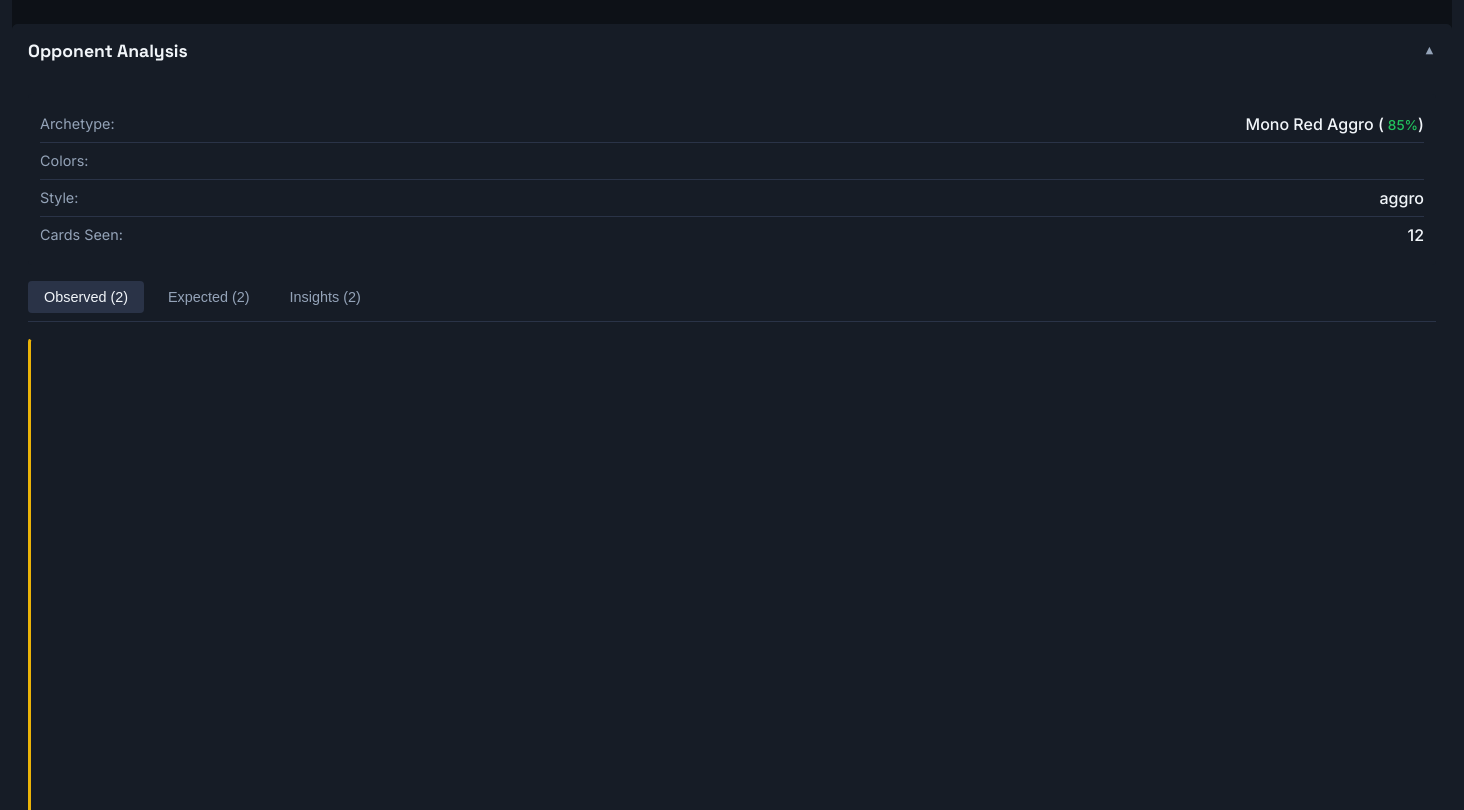
Test case: OpponentAnalysisPanel › switches to expected cards tab when clicked
Click the tab "Expected (2)": [209, 297] box [152, 281, 266, 313]
(page scrolled)
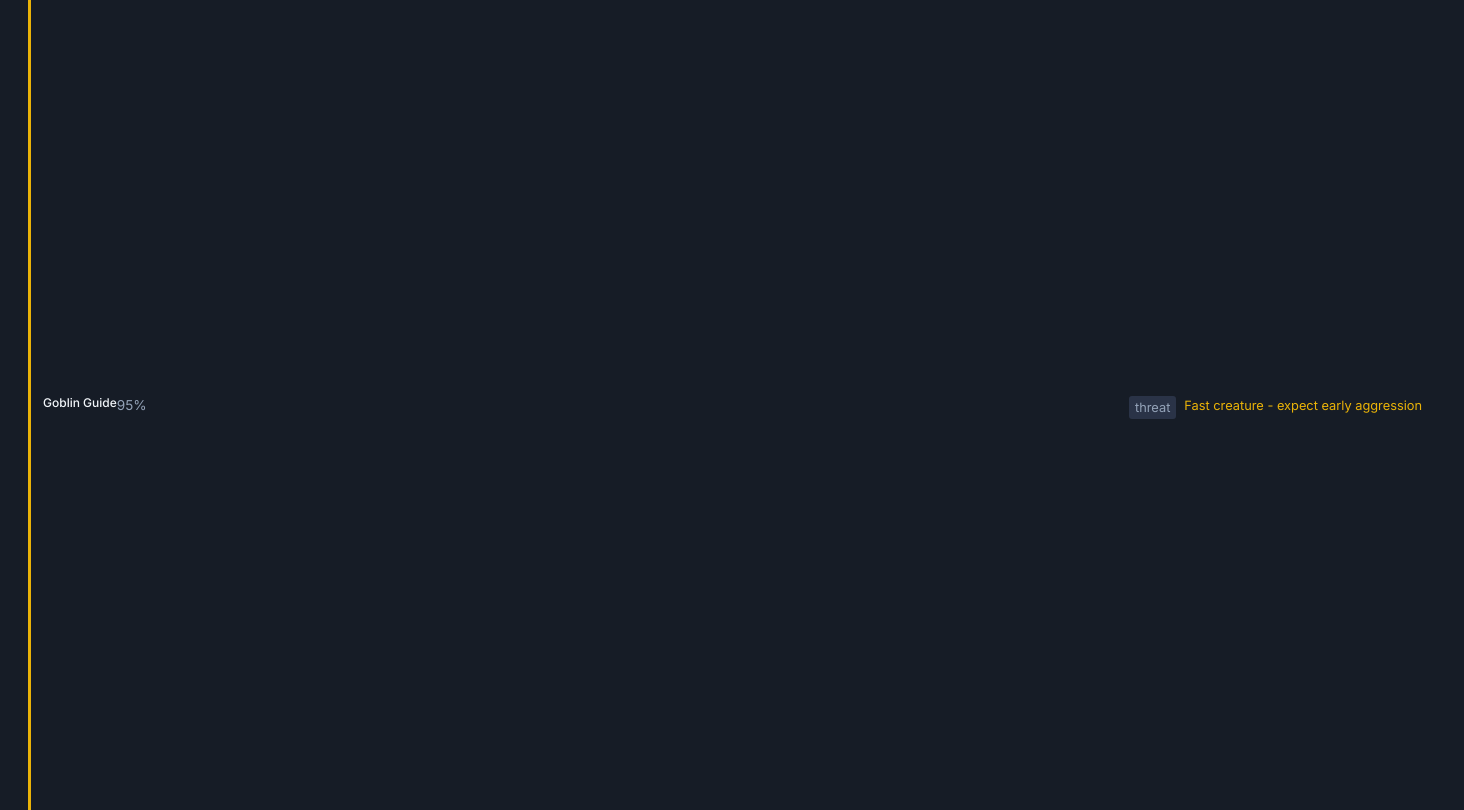
Expected: the text "Goblin Guide" is shown, [43, 396, 117, 410]
Expected: the text "95%" is shown, [117, 395, 147, 415]
